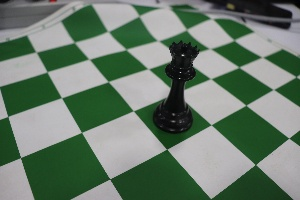black_queen: (145, 30, 199, 135)
